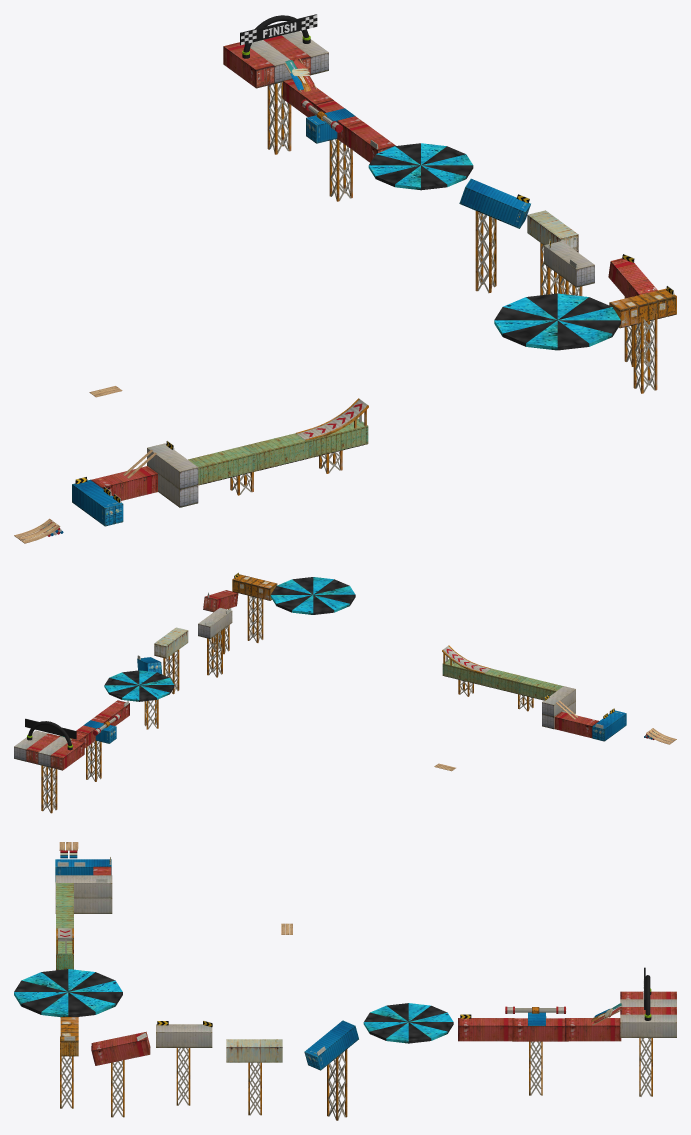
Rendered from 22_Parkour.fbx.
3 renders of one model, top to bottom at view 1: azimuth 30°, elevation 25°; view 2: azimuth 150°, elevation 25°; view 3: azimuth 270°, elevation 25°, orthographic. The views are drawn at different scales.
Visible parts, largest first — view 1: TurningPlatform, TurningPlatform__1_, stcontainerblue__1_, stcontainerorange, stcontainergreentwo, stcontainergreentwo__1_, stcontainerblue, stcontainerwhitetwo__2_, stcontainerwhitetwo__1_, stcontainerred__9_, finishObject, stcontainerred__4_ (+14 smaller); view 2: TurningPlatform, TurningPlatform__1_, stcontainerorange, stcontainerred__4_, stcontainergreentwo__1_, stcontainerwhite__1_, stcontainerwhitetwo__2_, stcontainerblue, stcontainerred__9_, stcontainergreentwo, stcontainerwhitetwo__1_, finishObject (+12 smaller); view 3: TurningPlatform, TurningPlatform__1_, stcontainerblue__1_, stcontainerwhite__1_, stcontainerred__6_, stcontainerred__5_, stcontainerwhitetwo__2_, stcontainerwhitetwo__3_, stcontainerred__7_, stcontainerred__10_, stcontainerwhitetwo__1_, stcontainerblue (+7 smaller).
Boxes of the visible parts, box(x1,y1,x2,y2) form: TurningPlatform: box(494, 293, 620, 350); TurningPlatform__1_: box(368, 143, 473, 190); stcontainerblue__1_: box(459, 178, 530, 228); stcontainerorange: box(609, 288, 676, 328); stcontainergreentwo: box(188, 446, 254, 485); stcontainergreentwo__1_: box(244, 433, 311, 471); stcontainerblue: box(72, 479, 123, 526); stcontainerwhitetwo__2_: box(544, 241, 594, 287); stcontainerwhitetwo__1_: box(147, 443, 198, 489); stcontainerred__9_: box(223, 42, 274, 88); finishObject: box(240, 14, 317, 58); stcontainerred__4_: box(91, 466, 157, 500); TurningPlatform: box(270, 577, 355, 614); TurningPlatform__1_: box(104, 670, 174, 701); stcontainerorange: box(232, 574, 277, 600); stcontainerred__4_: box(554, 711, 599, 738); stcontainergreentwo__1_: box(480, 668, 524, 694); stcontainerwhite__1_: box(154, 627, 188, 658); stcontainerwhitetwo__2_: box(198, 608, 232, 638); stcontainerblue: box(592, 710, 626, 741); stcontainerred__9_: box(50, 739, 84, 770); stcontainergreentwo: box(518, 677, 563, 700); stcontainerwhitetwo__1_: box(542, 686, 575, 717); finishObject: box(25, 718, 76, 750); TurningPlatform: box(14, 969, 122, 1017); TurningPlatform__1_: box(363, 1003, 453, 1043); stcontainerblue__1_: box(304, 1020, 358, 1070); stcontainerwhite__1_: box(226, 1039, 282, 1062); stcontainerred__6_: box(458, 1018, 514, 1041); stcontainerred__5_: box(91, 1031, 150, 1065); stcontainerwhitetwo__2_: box(156, 1024, 212, 1047); stcontainerwhitetwo__3_: box(620, 1014, 676, 1037); stcontainerred__7_: box(565, 1018, 621, 1041); stcontainerred__10_: box(512, 1018, 568, 1041); stcontainerwhitetwo__1_: box(55, 875, 112, 898); stcontainerblue: box(55, 859, 111, 882).
Bounding box in the file's own units: 19179 × 4131 × 19523.
